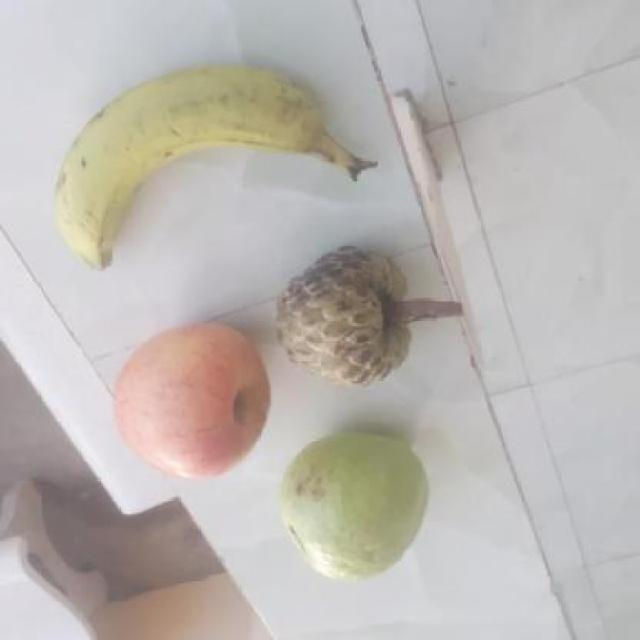apple: (109, 325, 276, 481)
banana: (57, 64, 377, 271)
guava: (282, 435, 433, 576)
sugar apple: (276, 250, 419, 388)
